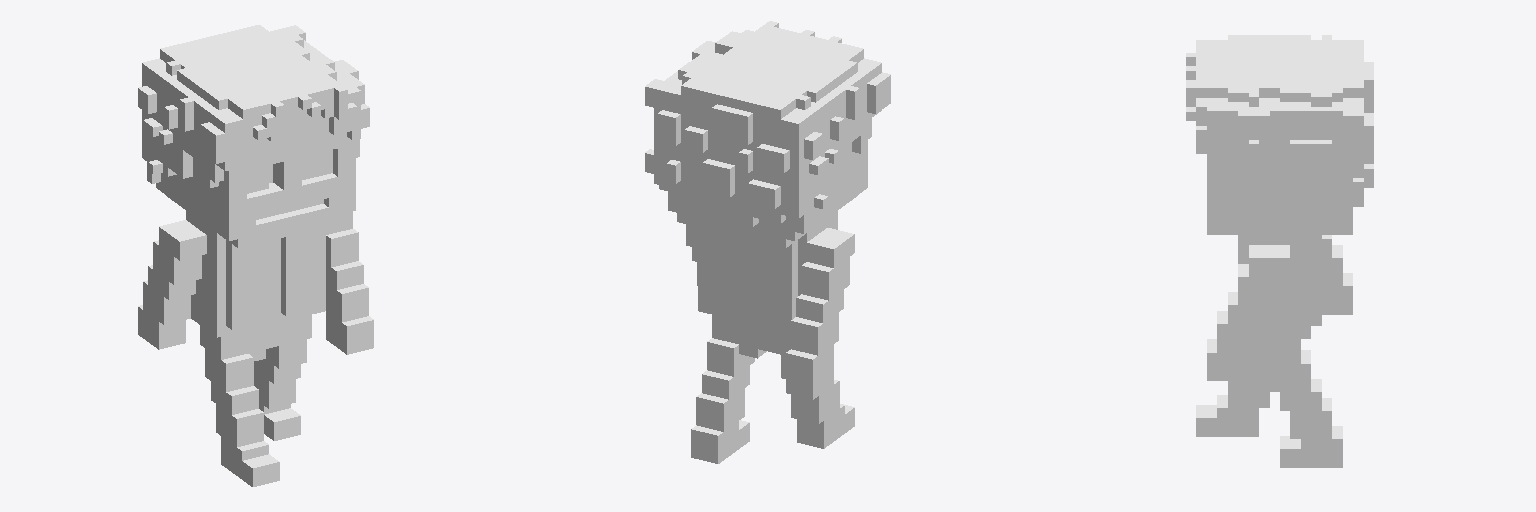
File: guy_walk_1.obj
The picture shows the model from 3 angles: view 1: azimuth 30°, elevation 25°; view 2: azimuth 150°, elevation 25°; view 3: azimuth 270°, elevation 25°; orthographic projection.
Visible parts, largest first — view 1: object 1; view 2: object 1; view 3: object 1.
Boxes of the visible parts, x1,y1,x2,y2 form: object 1: [138, 25, 373, 486]; object 1: [645, 21, 890, 463]; object 1: [1186, 35, 1373, 467].
Size of the model in its own units: 1.8 by 4 by 1.8.